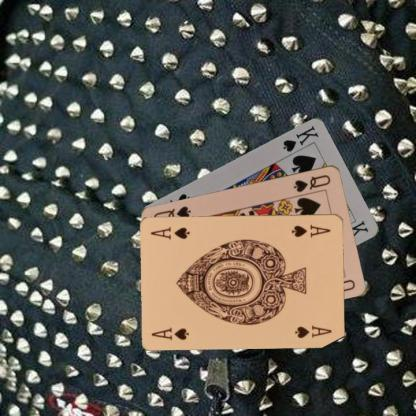As: (149, 324, 190, 342), (290, 221, 332, 238)
Ks: (280, 122, 320, 154)
Qs: (291, 172, 332, 194)
